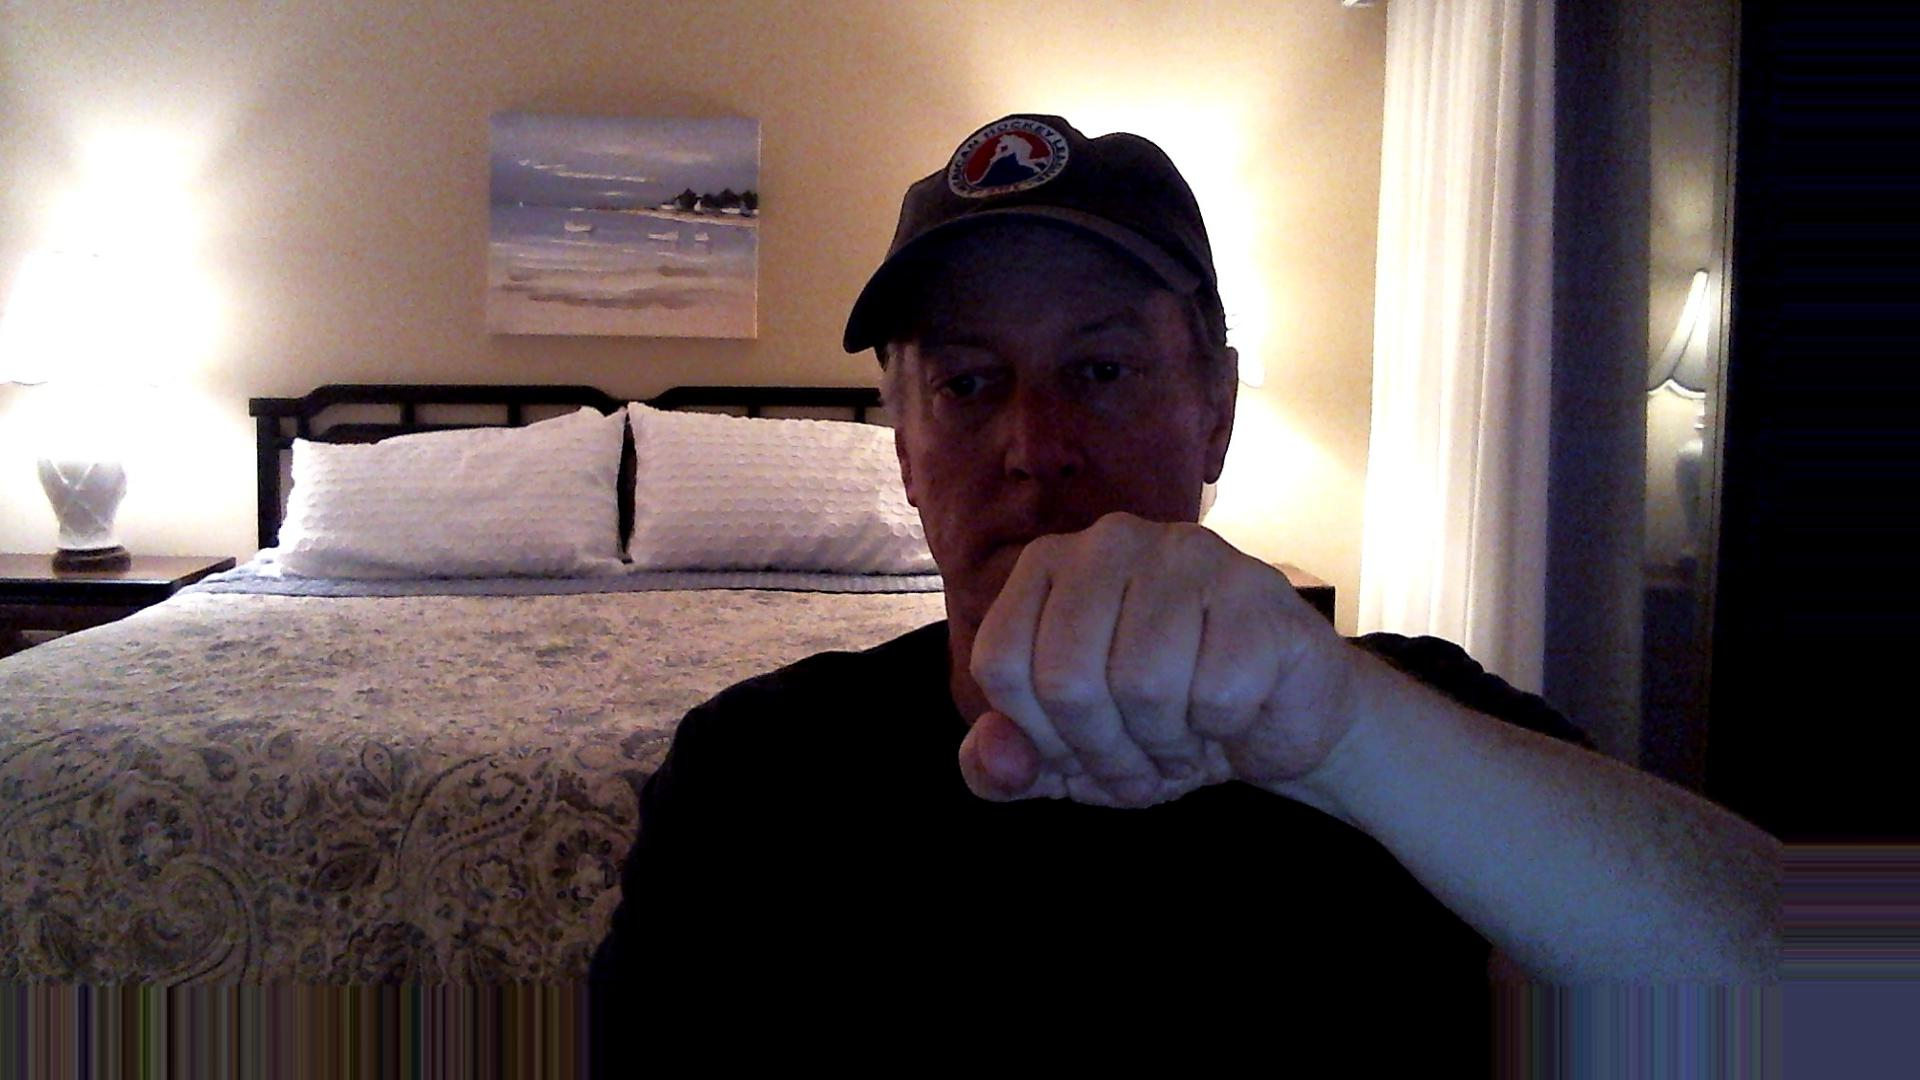Yes: (931, 496, 1369, 833)
